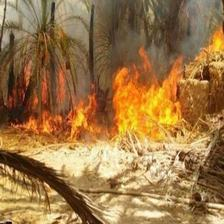fire: (109, 50, 195, 140), (15, 43, 71, 118), (15, 104, 107, 141), (194, 22, 224, 66)
